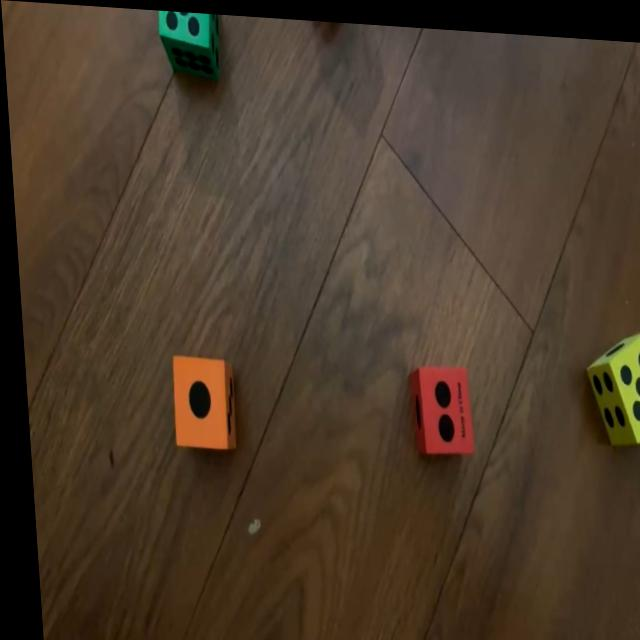red_block: (403, 358, 468, 450)
